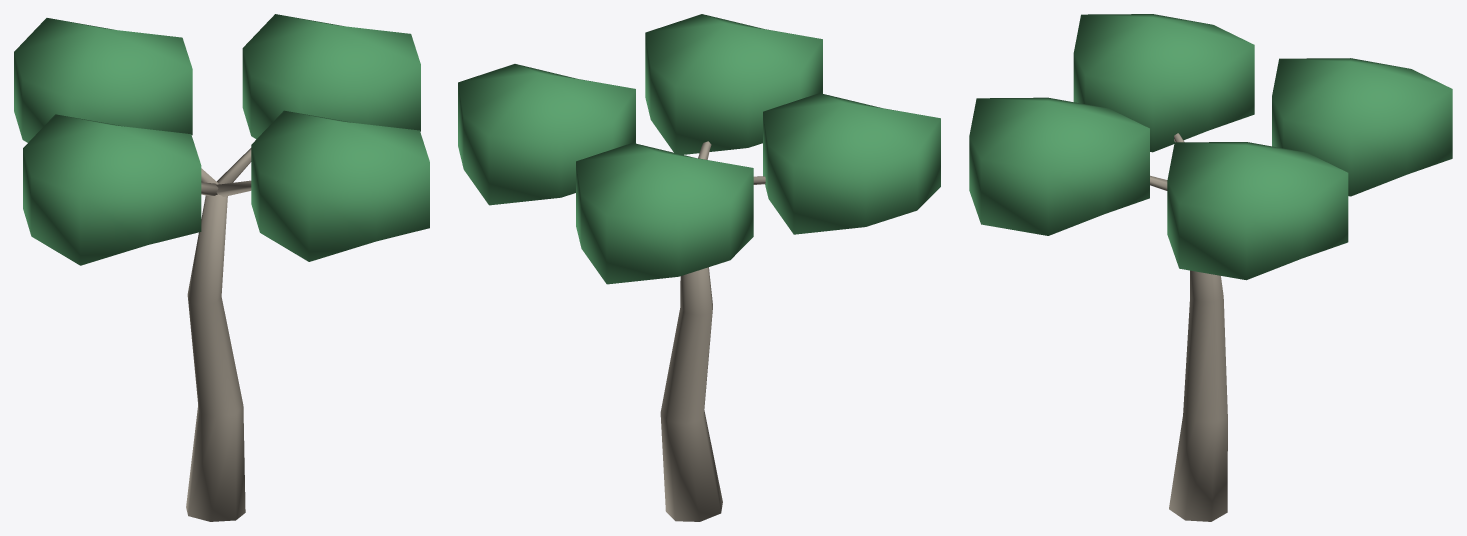
Rendered from canopy_ancient_ironwood.glb.
3 views of the same model, side by side, from view 1: azimuth 30°, elevation 25°; view 2: azimuth 150°, elevation 25°; view 3: azimuth 270°, elevation 25° (orthographic). The views are drawn at different scales.
Visible parts, largest first — view 1: Flora_Ancient_Ironwood; view 2: Flora_Ancient_Ironwood; view 3: Flora_Ancient_Ironwood.
Boxes of the visible parts, left/top/right/bottom form: Flora_Ancient_Ironwood: left=14, top=14, right=429, bottom=521; Flora_Ancient_Ironwood: left=458, top=14, right=940, bottom=521; Flora_Ancient_Ironwood: left=969, top=14, right=1452, bottom=521.
Size of the model in its own units: 6.71 by 6.6 by 6.71.
